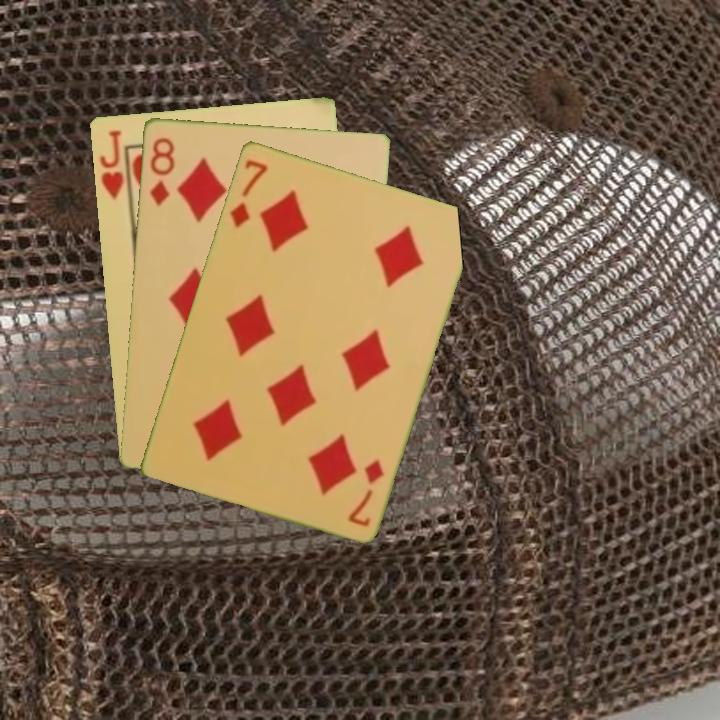7d: (226, 155, 271, 230), (344, 455, 387, 529)
8d: (146, 133, 177, 208)
Jh: (95, 126, 127, 202)
